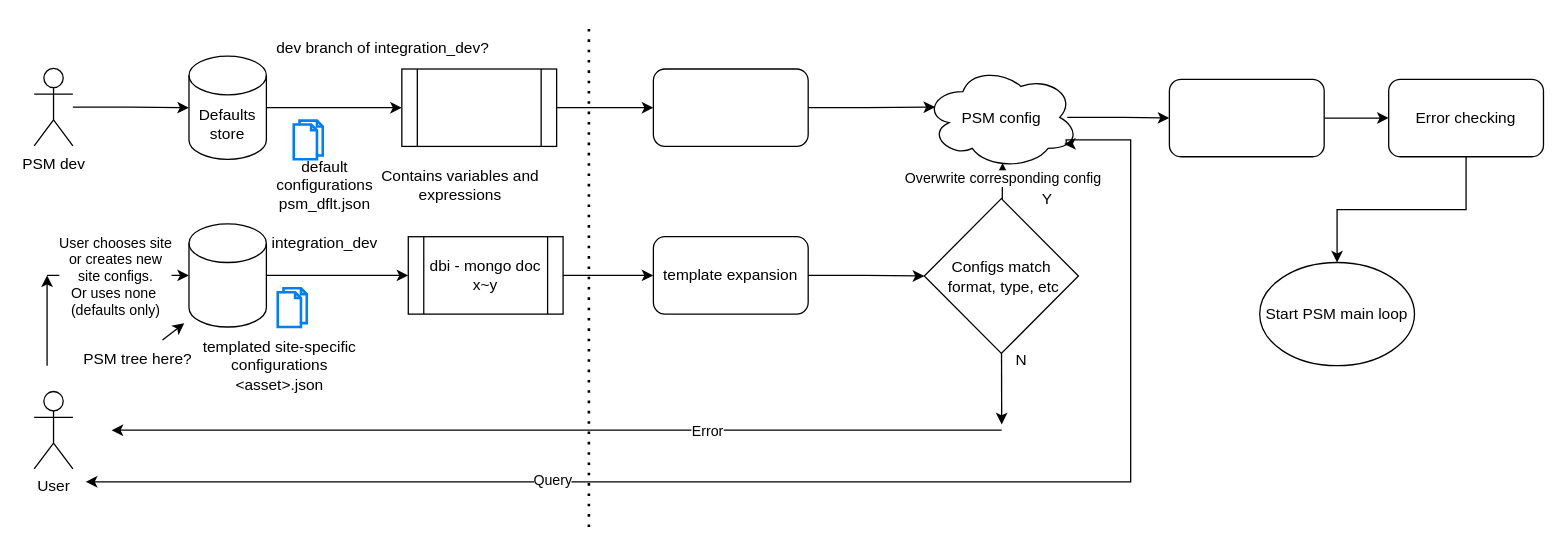
The diagram is 1566 pixels wide and 551 high, and some of its shapes have lost their labels. Here are the shapes that lost their labels. From the top down, the box of each, then its label:
(401, 68, 557, 146): dbi - mongo doc 1~x
(652, 68, 808, 146): tree-based default config expander
(1168, 78, 1324, 157): Expression parser
(188, 223, 266, 327): Configs store
